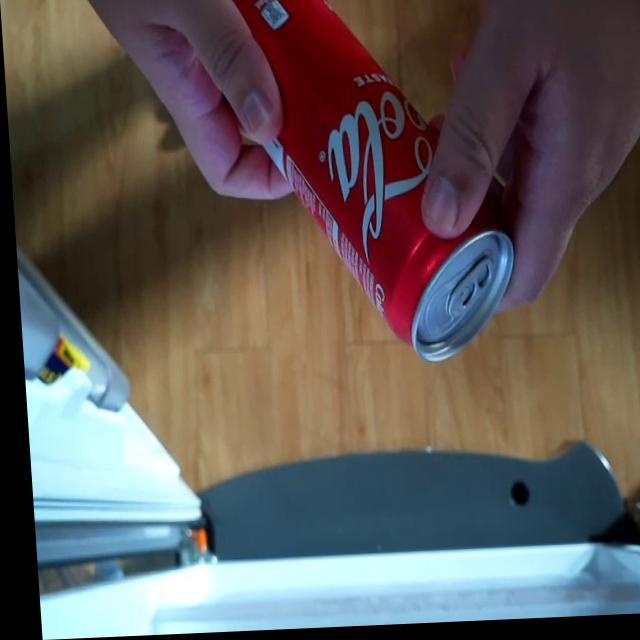coke: (214, 0, 526, 374)
